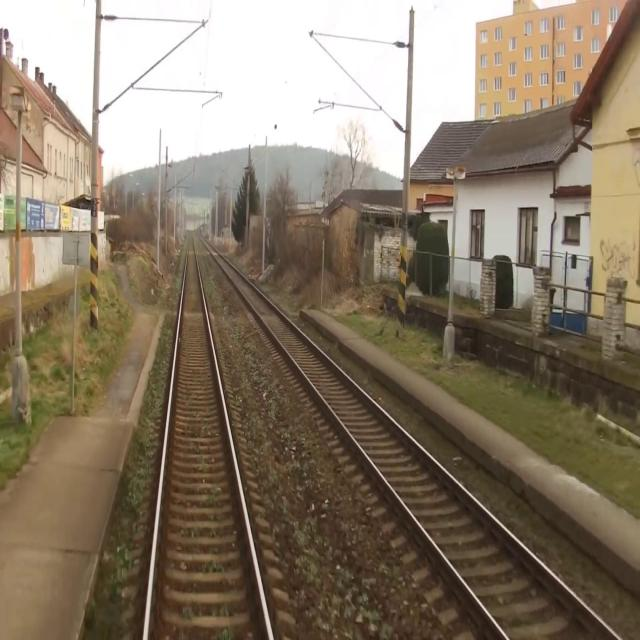rail-track: (198, 232, 614, 639), (147, 230, 269, 639)
